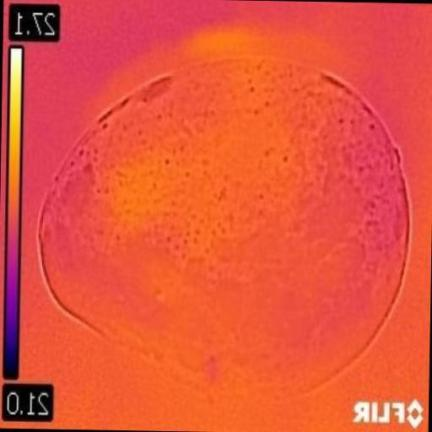mango: (39, 58, 411, 403)
